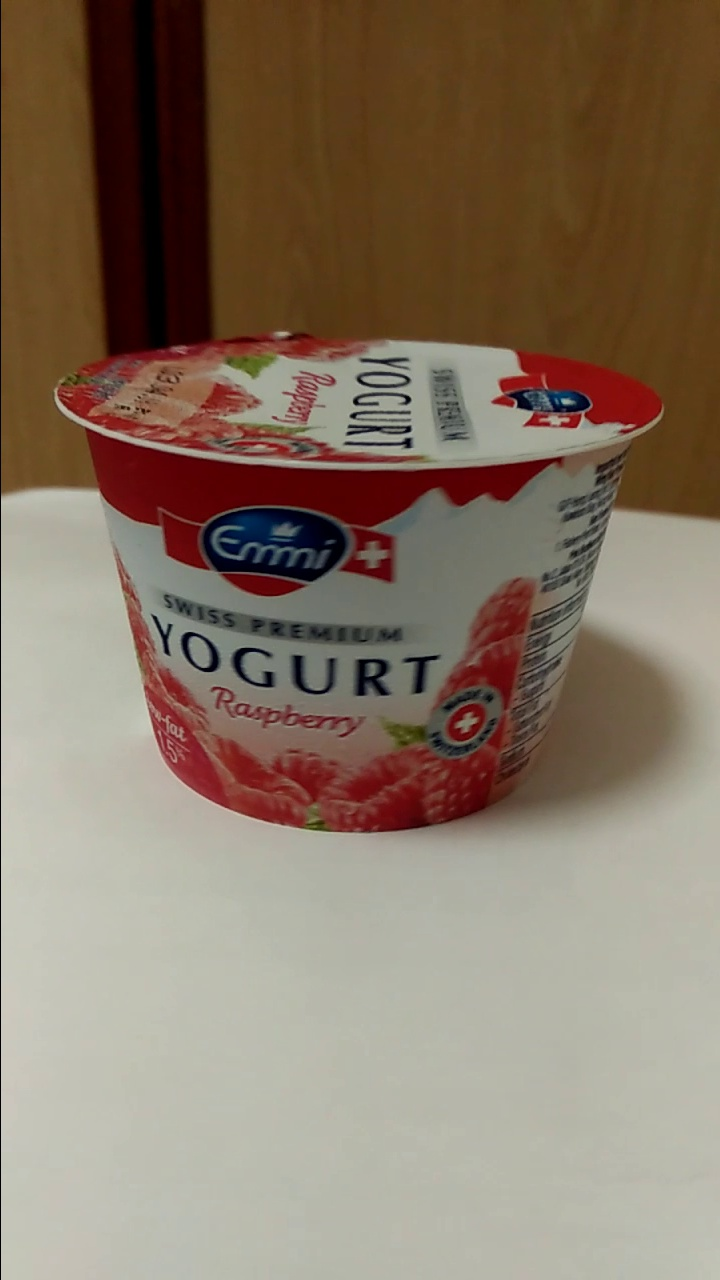yogurt: (56, 339, 672, 841)
